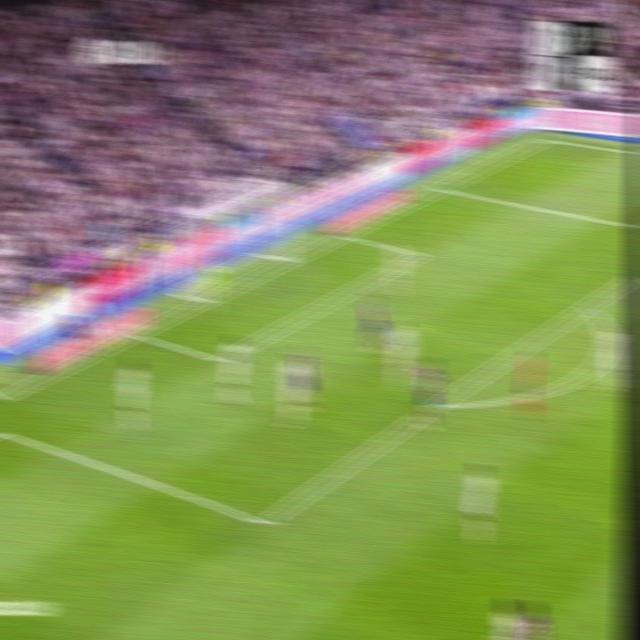bigarea_bottom_inner: (252, 506, 276, 538)
bigarea_top_outter: (432, 180, 451, 195)
bottom_arc_area_intersection: (428, 393, 449, 414)
corner: (534, 132, 555, 144)
smallarea_top_inner: (410, 245, 429, 263)
top_arc_area_intersection: (577, 295, 597, 316)
